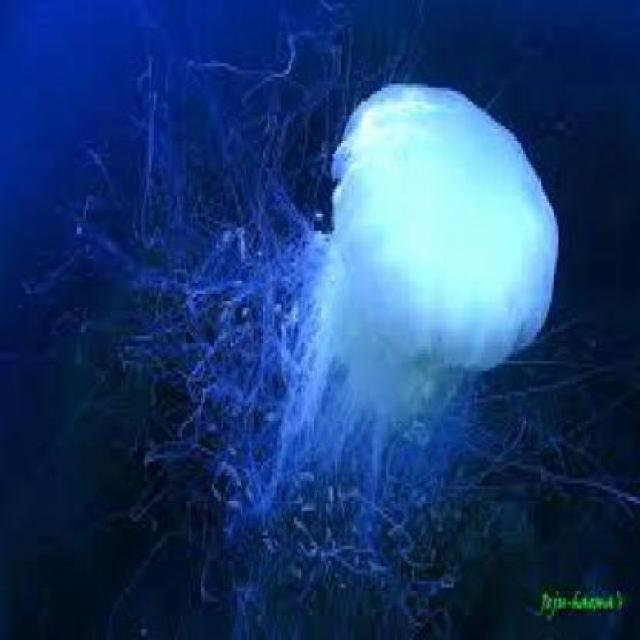Jellyfish: (167, 73, 564, 598)
